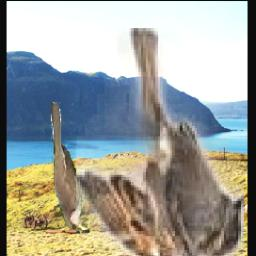Cuckoo: (51, 102, 88, 231)
Sparrow: (76, 28, 244, 256)
